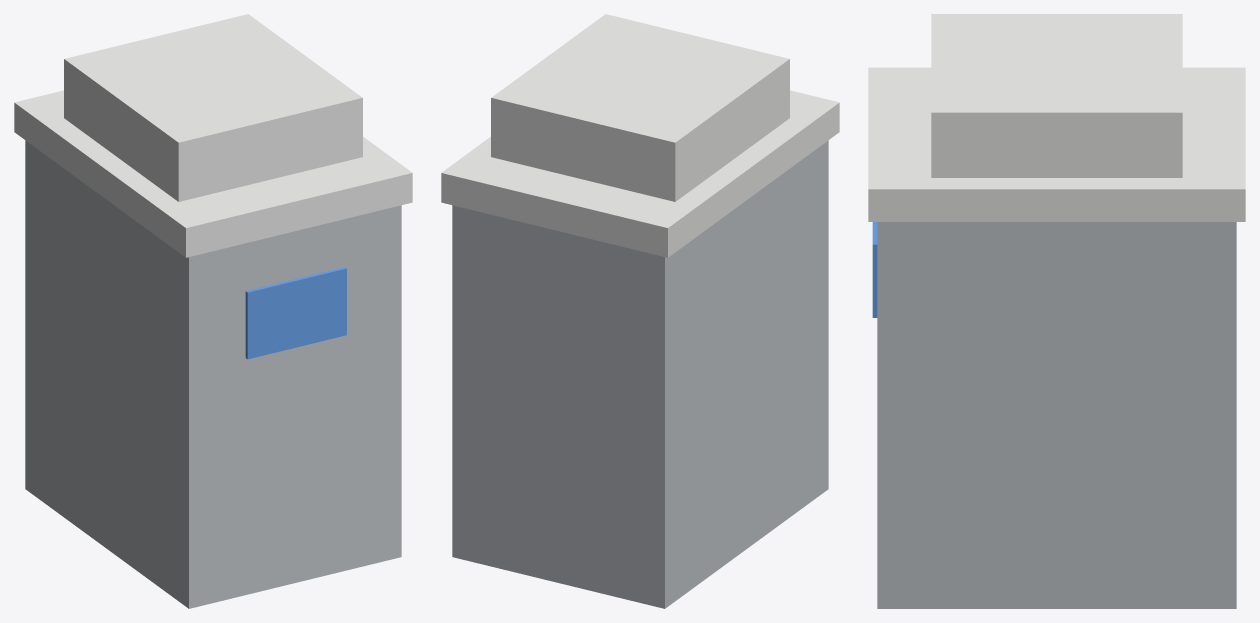
The model's file is trash_45l_lid.glb.
The picture shows the model from 3 angles, left to right: view 1: azimuth 30°, elevation 25°; view 2: azimuth 150°, elevation 25°; view 3: azimuth 270°, elevation 25°; orthographic projection. The views are drawn at different scales.
Parts seen in each view (by area): view 1: trash_45l_lid; view 2: trash_45l_lid; view 3: trash_45l_lid.
Part boxes in pixels (<box>): trash_45l_lid: <box>14,14,412,608</box>; trash_45l_lid: <box>441,14,839,608</box>; trash_45l_lid: <box>868,14,1245,608</box>.
Bounding box in the file's own units: 0.32 × 0.6 × 0.42.
